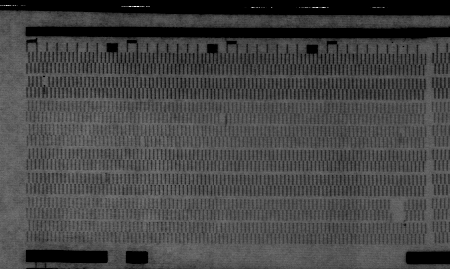Broken hole: (387, 197, 409, 222), (217, 113, 230, 126)
Oblique printing: (99, 173, 112, 186), (138, 136, 150, 149), (397, 127, 407, 140), (40, 77, 51, 88)
